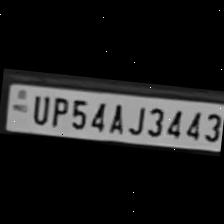3: (142, 102, 164, 137), (200, 108, 222, 142)
4: (87, 96, 109, 131), (182, 106, 204, 139), (163, 104, 184, 138)
5: (66, 94, 90, 129)
A: (105, 100, 128, 134)
J: (125, 100, 146, 135)
P: (47, 92, 69, 127)
U: (27, 90, 51, 124)
